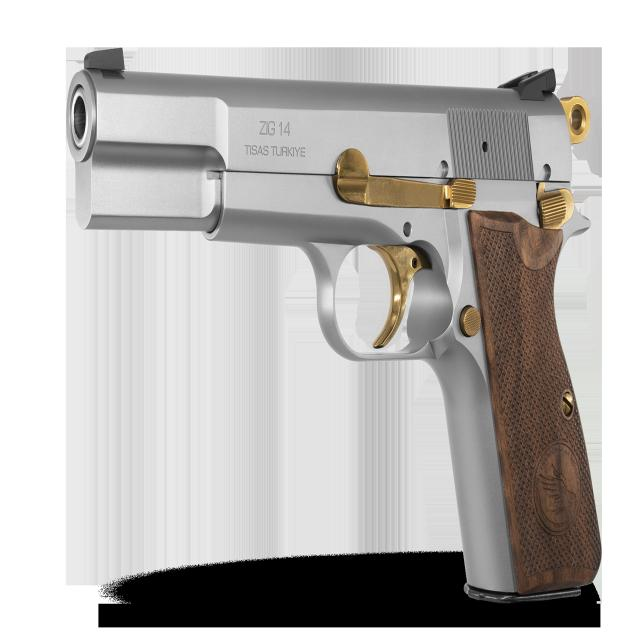pistol: (61, 32, 619, 620)
